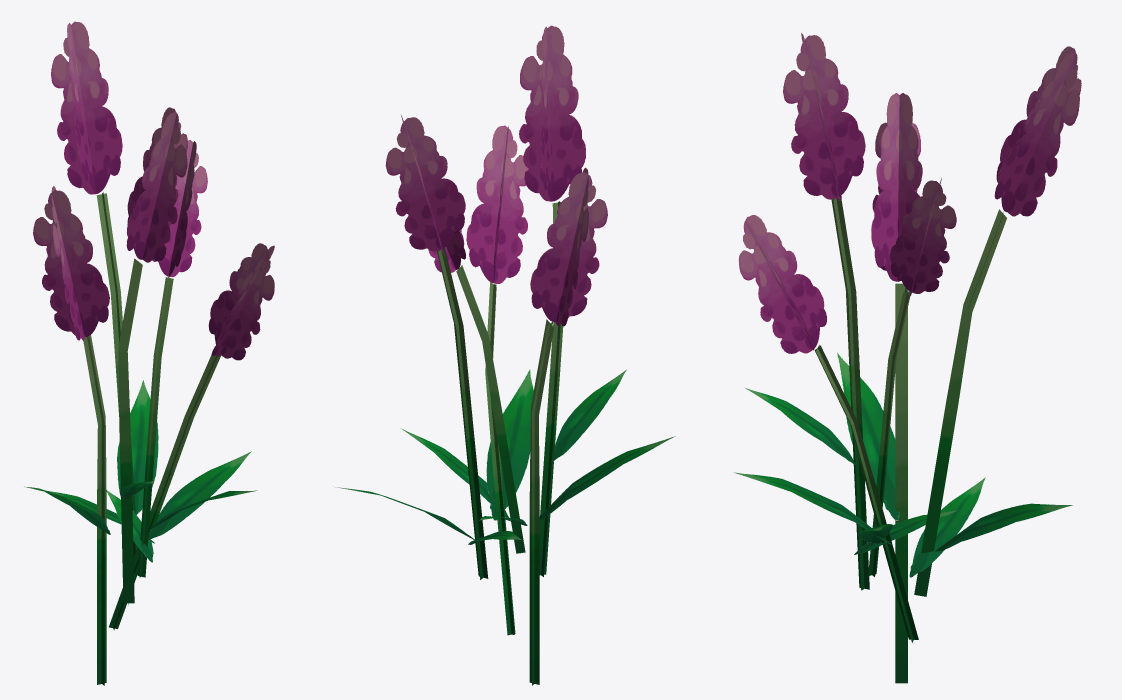
The model's file is SM_Ibiscus.fbx.
3 views of the same model, side by side, from view 1: azimuth 30°, elevation 25°; view 2: azimuth 150°, elevation 25°; view 3: azimuth 270°, elevation 25° (orthographic). The views are drawn at different scales.
Parts seen in each view (by area): view 1: ibiscucs; view 2: ibiscucs; view 3: ibiscucs.
Boxes of the visible parts, x1=… form: ibiscucs: x1=24, y1=21, x2=274, y2=685; ibiscucs: x1=333, y1=25, x2=675, y2=685; ibiscucs: x1=733, y1=33, x2=1081, y2=683.
Size of the model in its own units: 69.61 by 155 by 82.18.
Materials: 1 (1 with a texture image).
